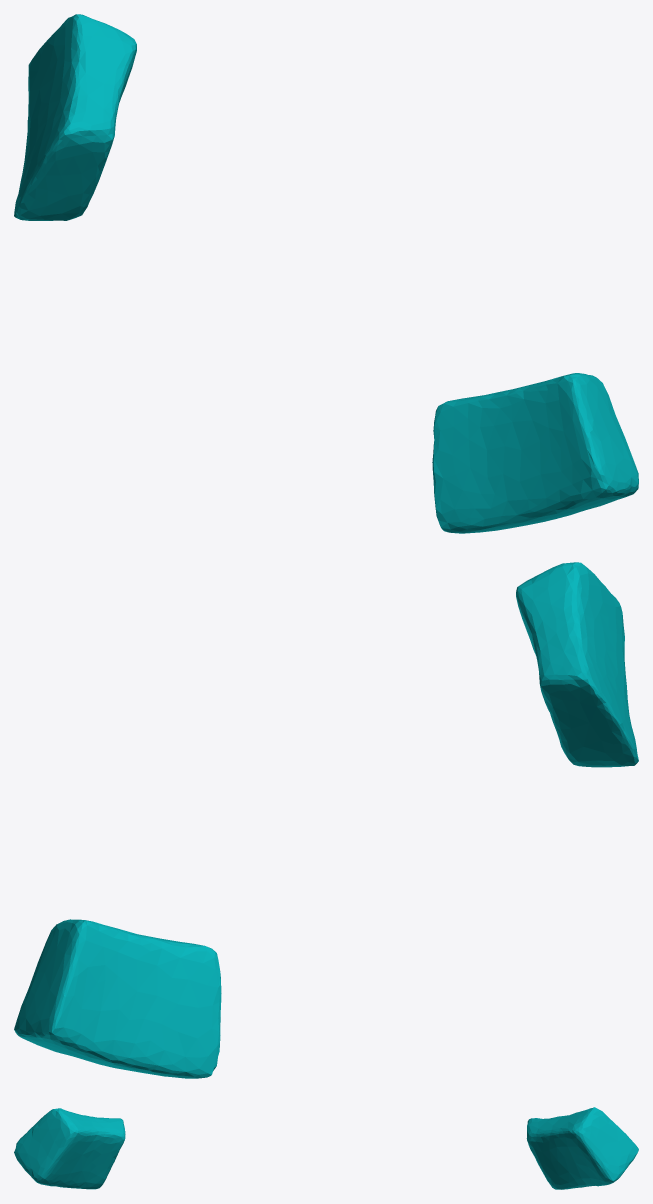
The picture shows the model from 3 angles, top to bottom: view 1: azimuth 30°, elevation 25°; view 2: azimuth 150°, elevation 25°; view 3: azimuth 270°, elevation 25°; orthographic projection. The views are drawn at different scales.
Parts seen in each view (by area): view 1: 417.obj; view 2: 417.obj; view 3: 417.obj.
Boxes of the visible parts, x1,y1,x2,y2 form: 417.obj: [14, 14, 638, 533]; 417.obj: [14, 562, 638, 1078]; 417.obj: [14, 1107, 638, 1189].
Size of the model in its own units: 1163 by 1232 by 7610.
